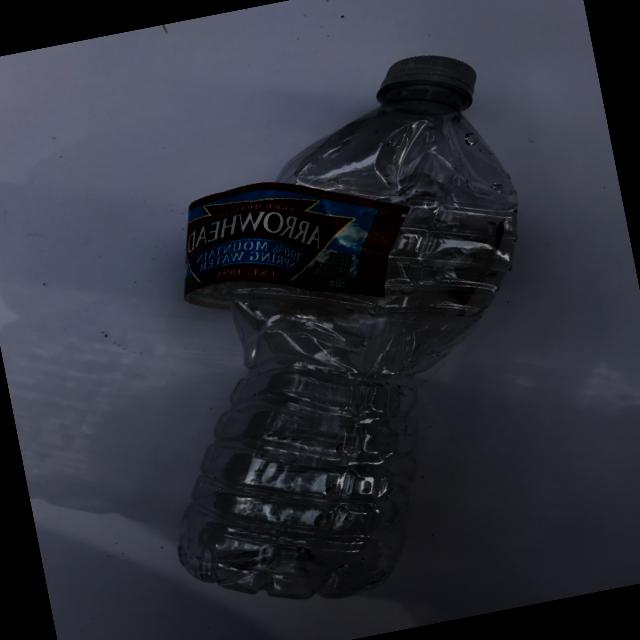Plastic: (70, 29, 631, 640)
